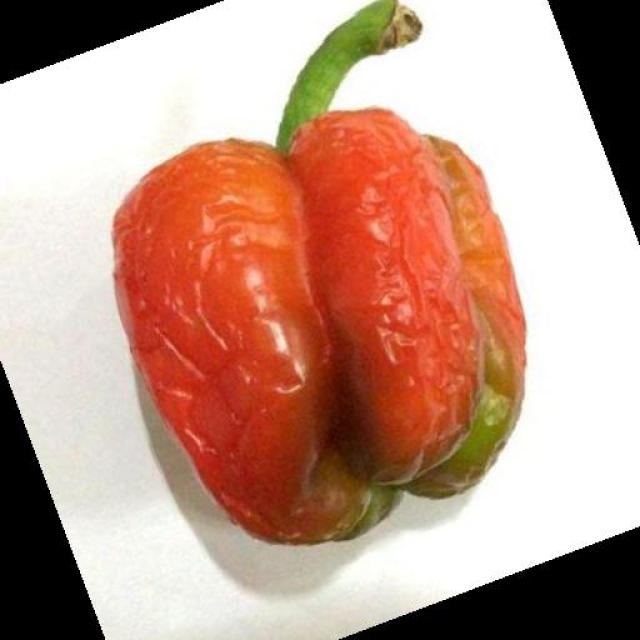Stale_Capsicum: (115, 13, 530, 579)
